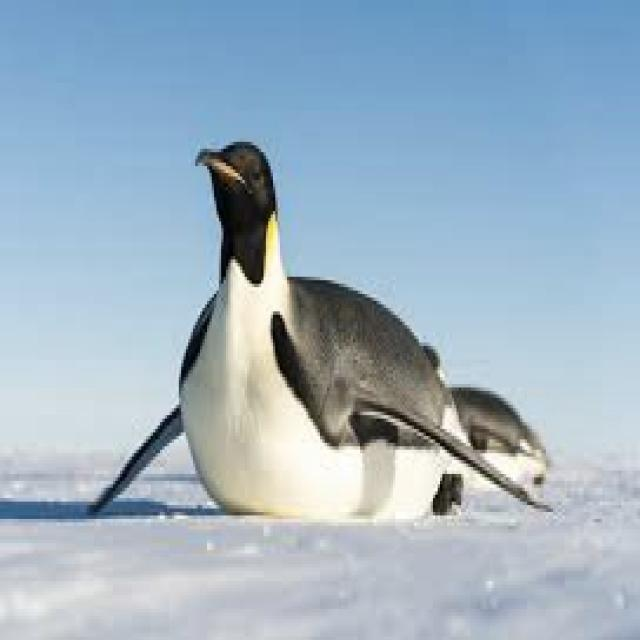penguin: (92, 142, 541, 512)
